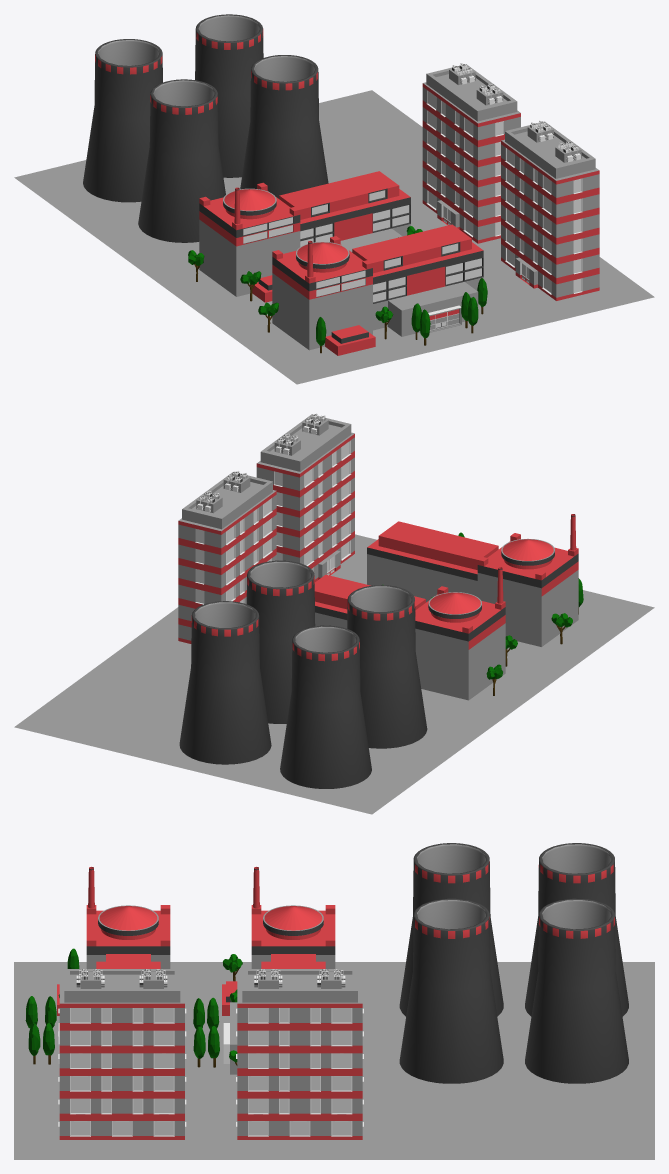
The model's file is uploads_files_2149956_Nuclear_Plant.fbx.
3 renders of one model, top to bottom at view 1: azimuth 30°, elevation 25°; view 2: azimuth 150°, elevation 25°; view 3: azimuth 270°, elevation 25°, orthographic. The views are drawn at different scales.
Parts seen in each view (by area): view 1: Building; view 2: Building; view 3: Building.
Part boxes in pixels (<box>): Building: <box>14,14,654,384</box>; Building: <box>14,413,654,814</box>; Building: <box>14,843,654,1159</box>.
Bounding box in the file's own units: 7481 × 2809 × 10235.
